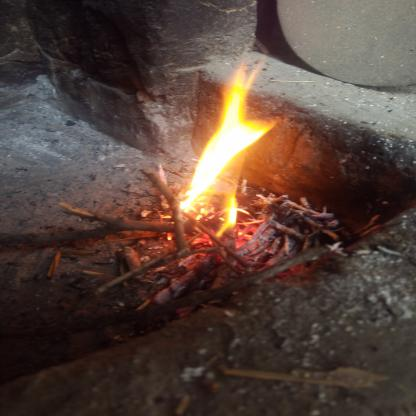Fire: (170, 62, 278, 242)
